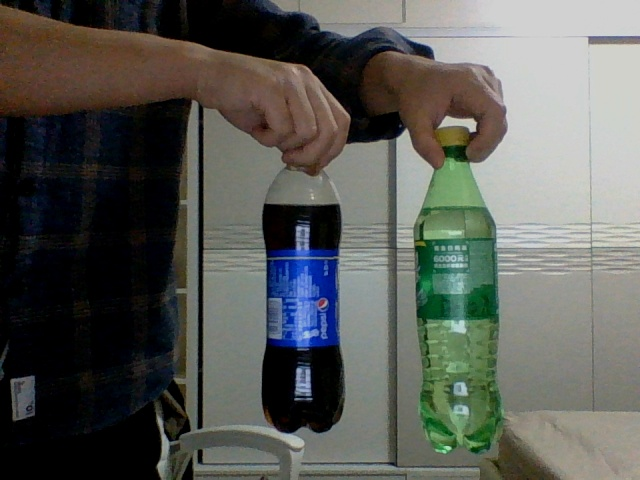Cola: (261, 145, 345, 433)
Sprite: (412, 126, 503, 454)
